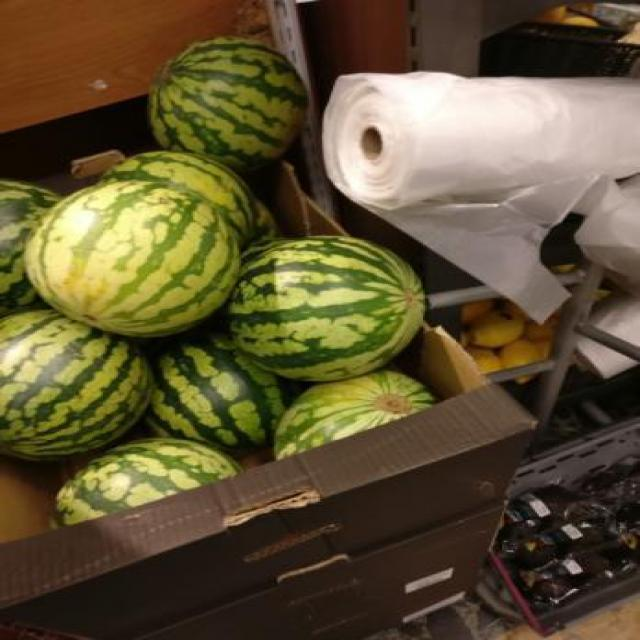Watermelon: (28, 179, 234, 337), (230, 237, 427, 382), (140, 39, 309, 167), (4, 311, 153, 456), (149, 341, 295, 450), (278, 372, 438, 462)
